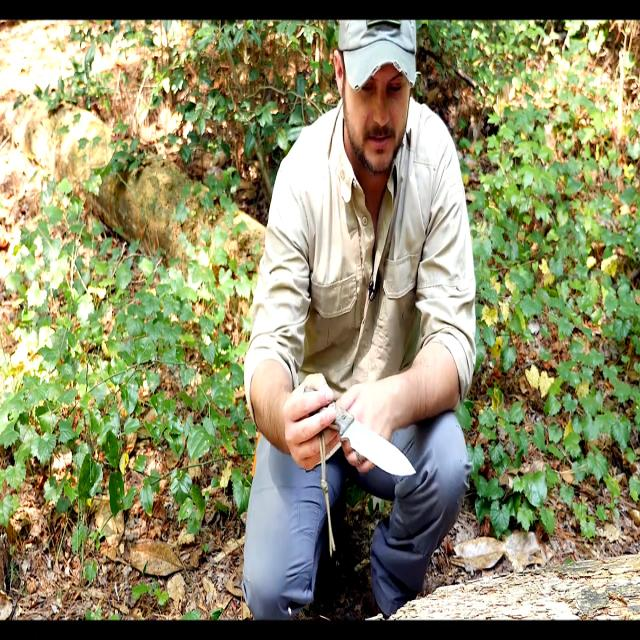knife: (329, 397, 419, 483)
